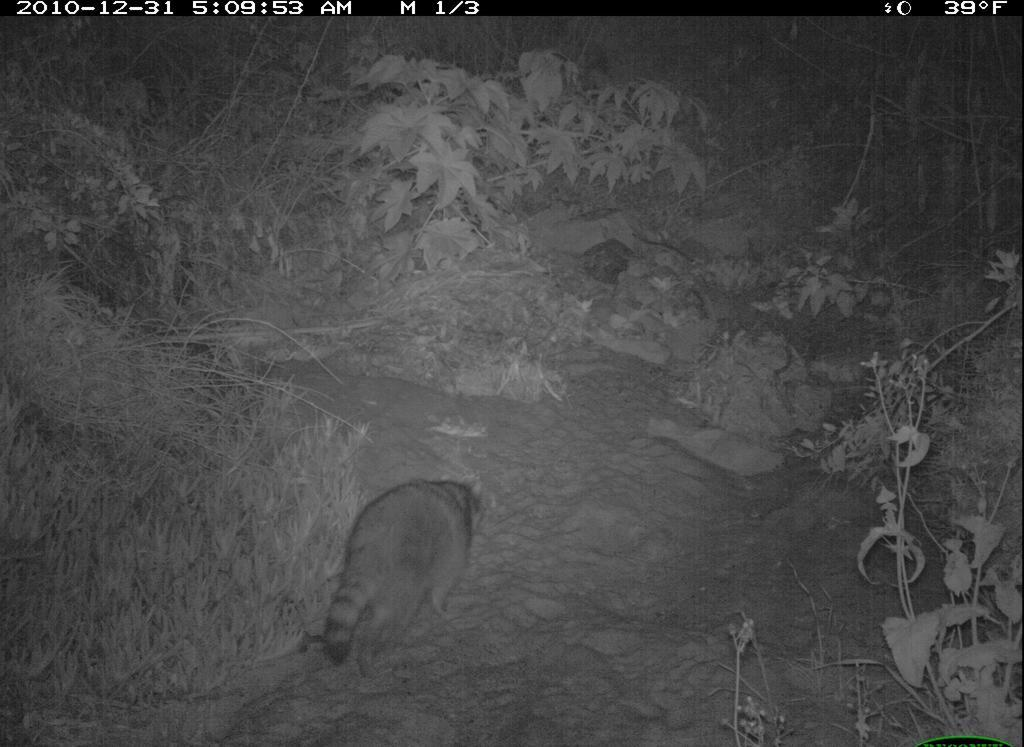raccoon: (309, 465, 501, 684)
